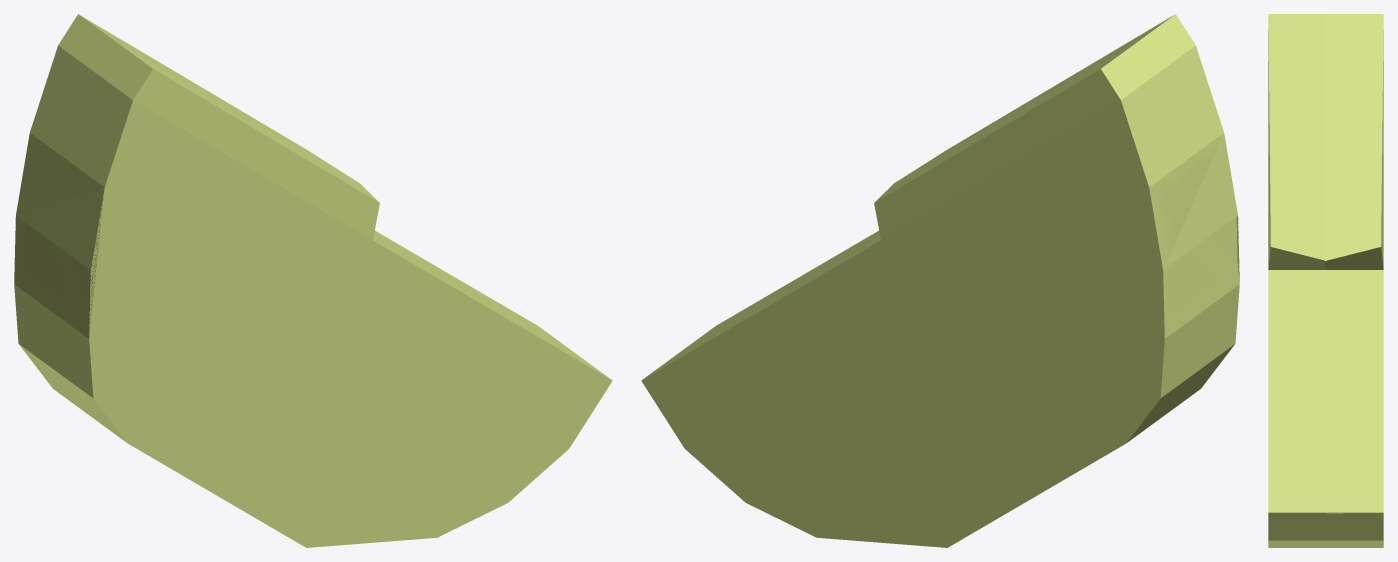
Rendered from RobotLegs 1.fbx.
3 renders of one model, left to right at view 1: azimuth 30°, elevation 25°; view 2: azimuth 150°, elevation 25°; view 3: azimuth 270°, elevation 25°, orthographic. The views are drawn at different scales.
Parts seen in each view (by area): view 1: Cube; view 2: Cube; view 3: Cube.
Boxes of the visible parts, box(x1,y1,x2,y2) form: Cube: box(14, 14, 612, 547); Cube: box(641, 14, 1239, 547); Cube: box(1268, 14, 1383, 547).
Bounding box in the file's own units: 222 × 218 × 55.1.
